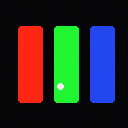0 point: (57, 83, 63, 89)
